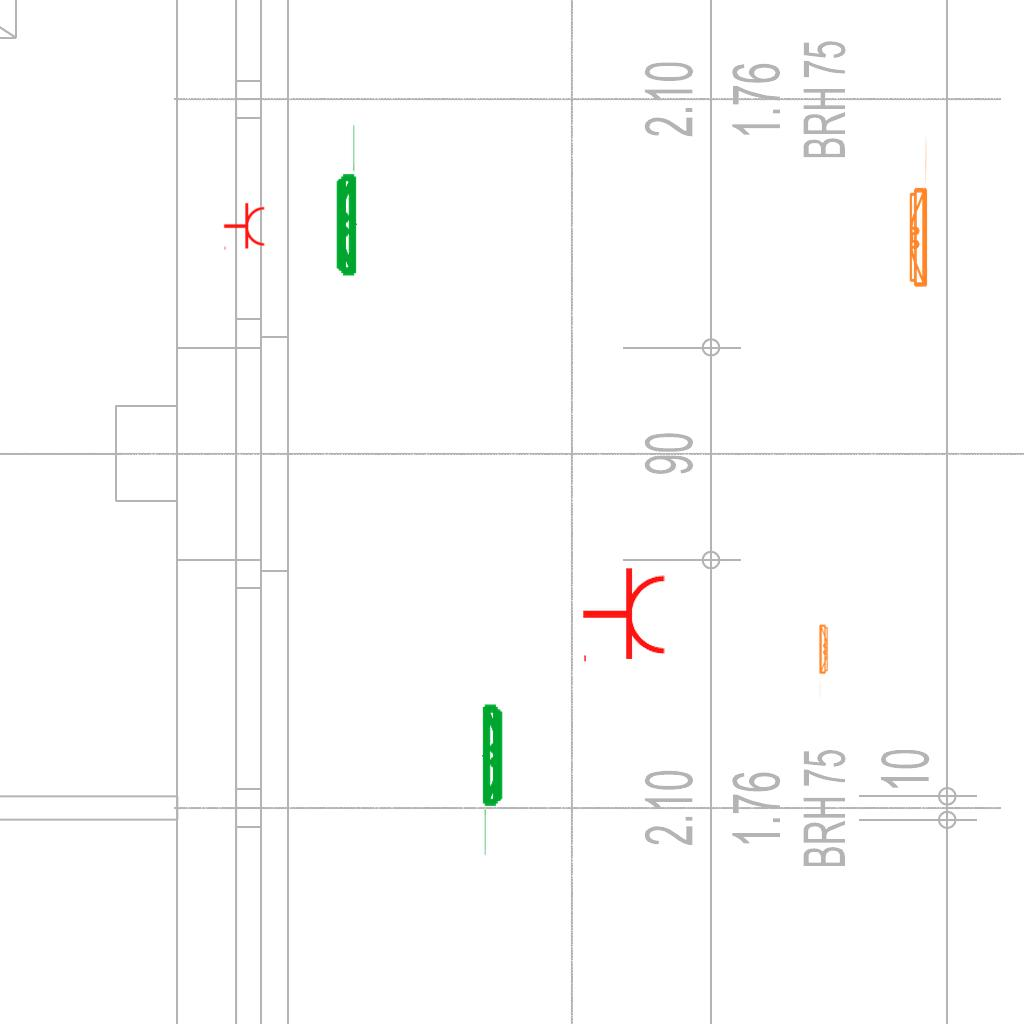Schukosteckdose_einfach: (581, 566, 668, 666), (223, 202, 266, 252)
Sicherheitsleuchte_Wandeinbau: (905, 133, 930, 292), (333, 120, 358, 279), (481, 701, 506, 860), (818, 622, 830, 701)
